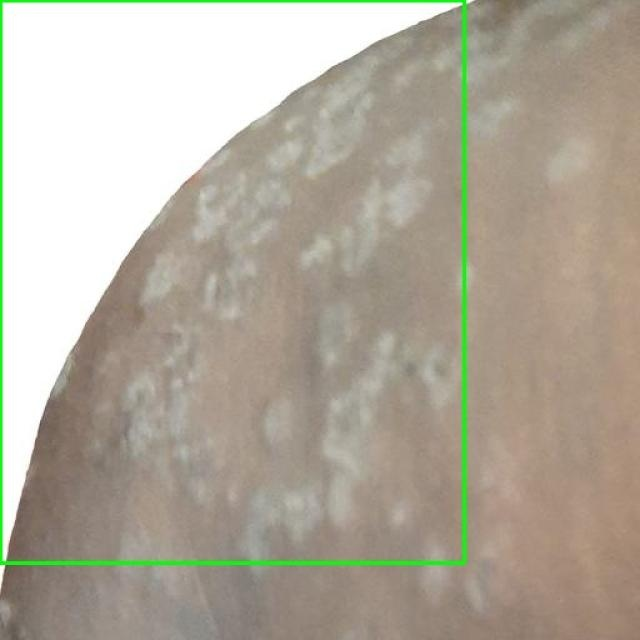Tinea Corporis: (0, 0, 464, 562)
